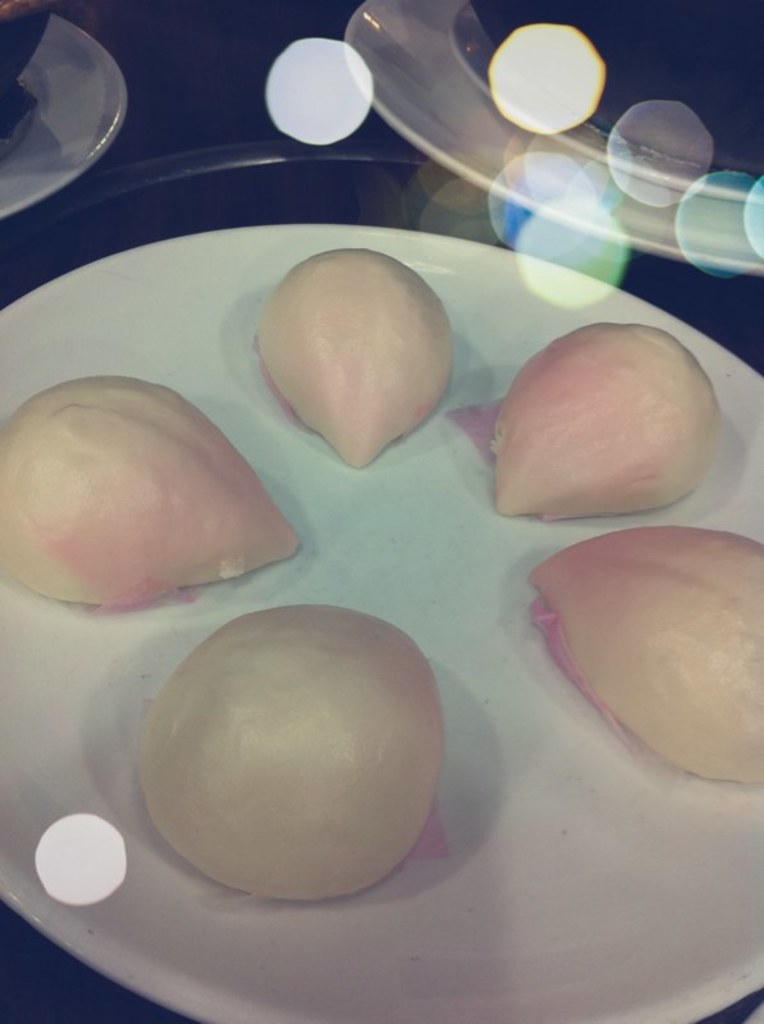plate: (0, 224, 763, 1023)
